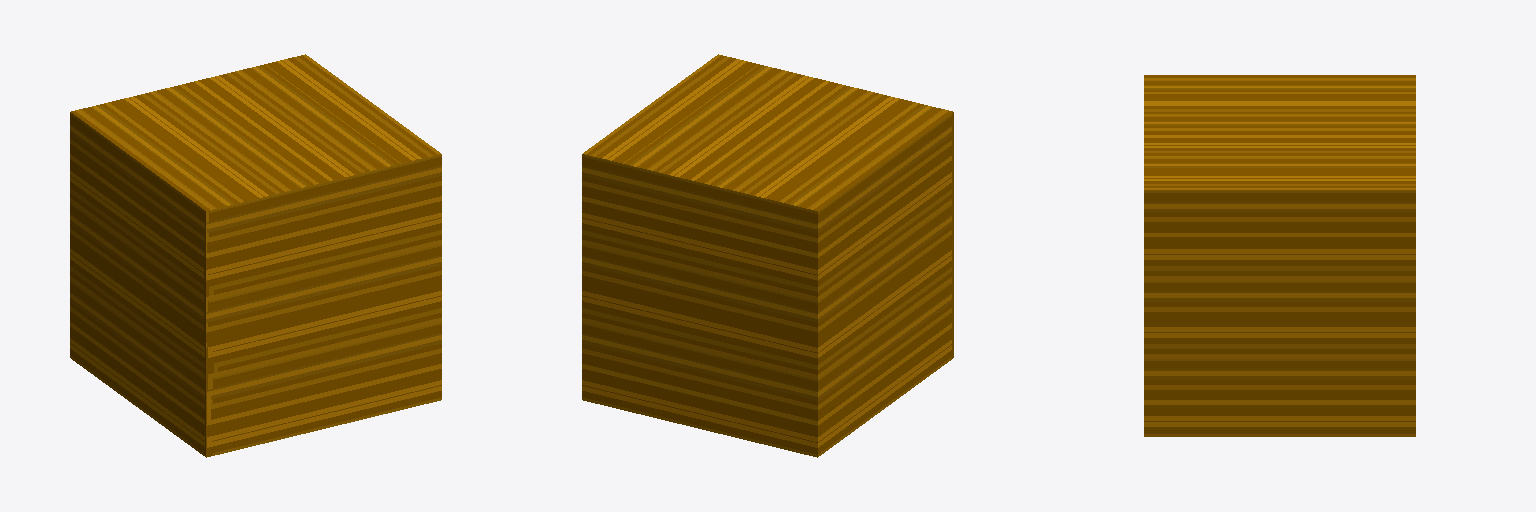
3 views of the same model, side by side, from view 1: azimuth 30°, elevation 25°; view 2: azimuth 150°, elevation 25°; view 3: azimuth 270°, elevation 25° (orthographic).
Parts seen in each view (by area): view 1: Cube.002_Cube.003; view 2: Cube.002_Cube.003; view 3: Cube.002_Cube.003.
Boxes of the visible parts, box(x1,y1,x2,y2) form: Cube.002_Cube.003: box(70, 54, 441, 457); Cube.002_Cube.003: box(582, 54, 953, 457); Cube.002_Cube.003: box(1144, 75, 1415, 436).
Bounding box in the file's own units: 4.48 × 4.48 × 4.48.
Materials: 1 (1 with a texture image).